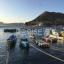fishing boat: (48, 29, 64, 39), (19, 34, 30, 48), (41, 33, 58, 42), (5, 34, 17, 46)
